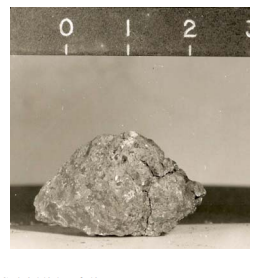Breccia: (31, 124, 207, 233)
